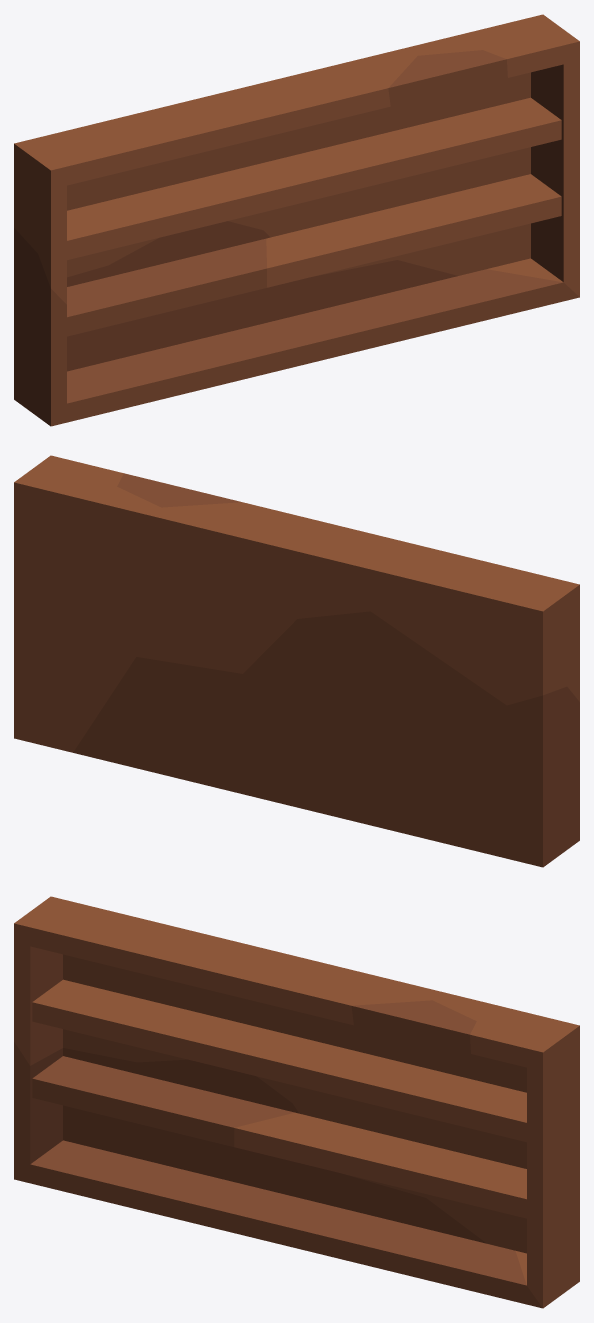
File: AI_Prop_BookShelf_Wide.fbx
3 renders of one model, top to bottom at view 1: azimuth 30°, elevation 25°; view 2: azimuth 150°, elevation 25°; view 3: azimuth 330°, elevation 25°, orthographic.
Parts seen in each view (by area): view 1: AI_Prop_BookShelf_Wide; view 2: AI_Prop_BookShelf_Wide; view 3: AI_Prop_BookShelf_Wide.
Part boxes in pixels (bbox=[...]): AI_Prop_BookShelf_Wide: bbox=[14, 14, 579, 426]; AI_Prop_BookShelf_Wide: bbox=[14, 455, 579, 867]; AI_Prop_BookShelf_Wide: bbox=[14, 896, 579, 1308].
Size of the model in its own units: 3.67 by 1.7 by 0.4426.
